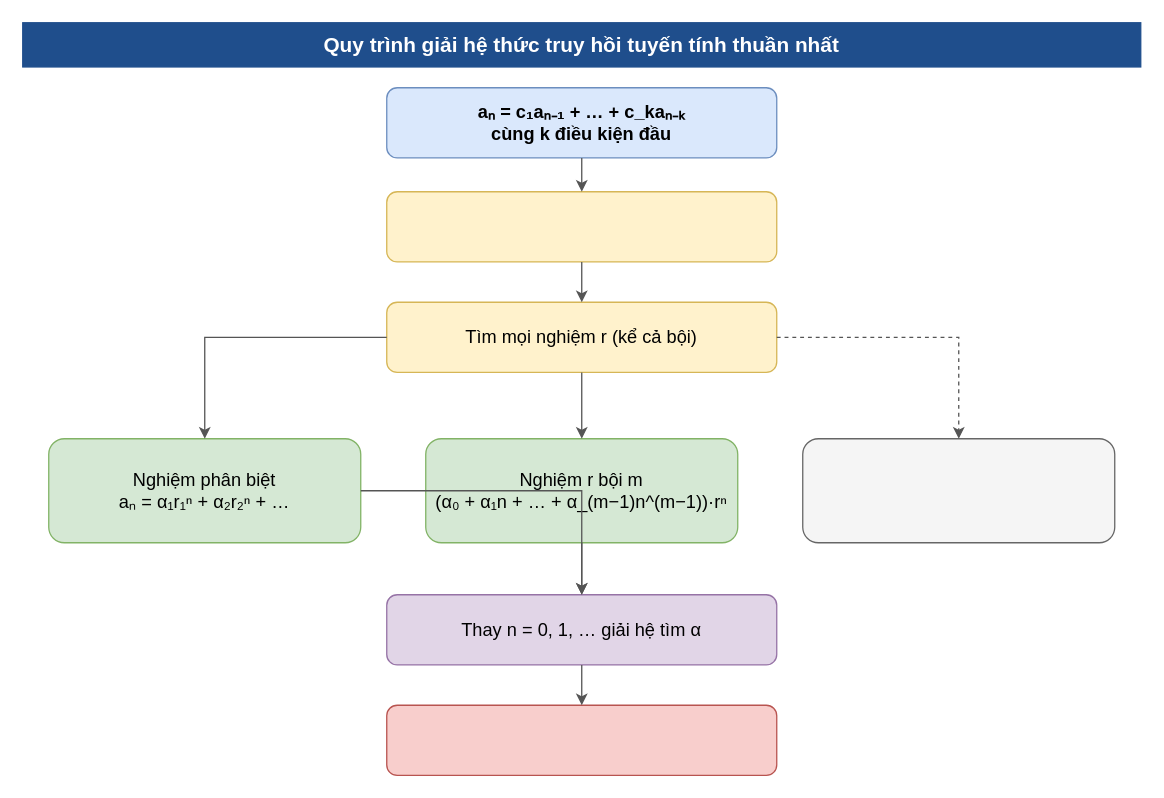
The diagram is 1164 pixels wide and 798 high, and some of its shapes have lost their labels. The shapes that lost their labels are listed below. From the top down, each one's centre as x and y in pixels, then its label:
the point at 581,226: Phương trình đặc trưng r^k − c₁r^(k−1) − … − c_k = 0
the point at 958,490: Nghiệm phức (ngoài phạm vi TRR1)
the point at 581,739: Kiểm tra: a₂, a₃ từ hệ thức trùng với công thức
